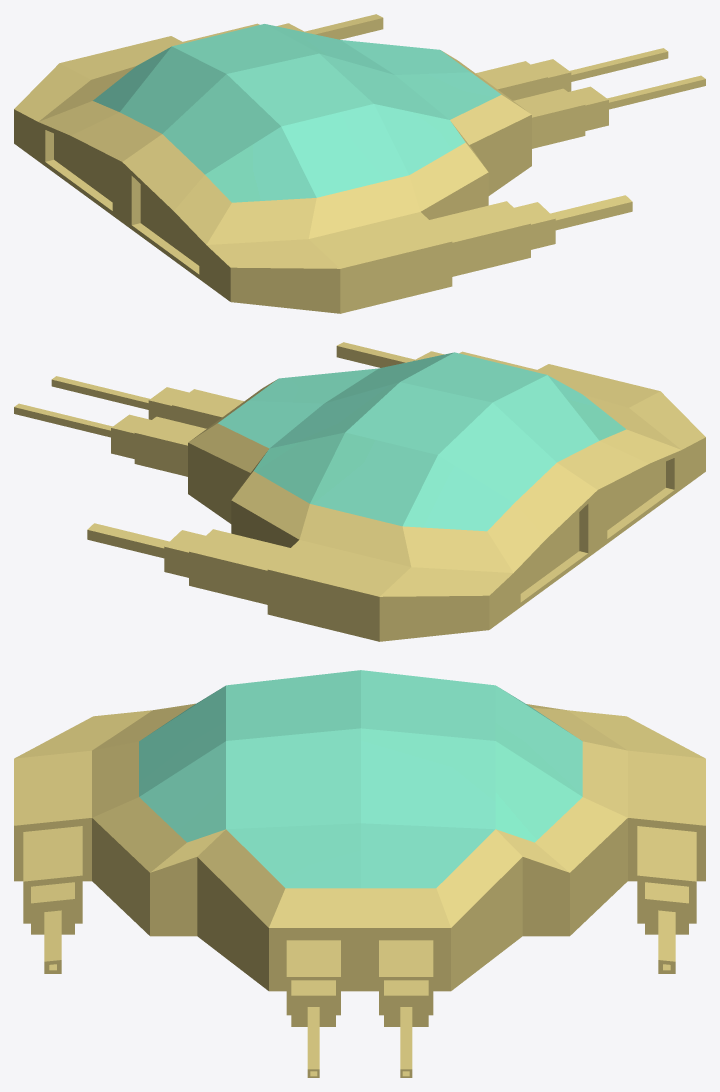
File: spaceship1.obj
3 views of the same model, one above another, from view 1: azimuth 30°, elevation 25°; view 2: azimuth 150°, elevation 25°; view 3: azimuth 270°, elevation 25° (orthographic). The views are drawn at different scales.
Visible parts, largest first — view 1: Cube_Cube.001; view 2: Cube_Cube.001; view 3: Cube_Cube.001.
Part boxes in pixels (box(x1,y1,x2,y2)): Cube_Cube.001: box(14, 14, 705, 313); Cube_Cube.001: box(14, 342, 705, 641); Cube_Cube.001: box(14, 670, 705, 1077).
Size of the model in its own units: 6.14 by 1.64 by 5.31.
Materials: 1 (1 with a texture image).
